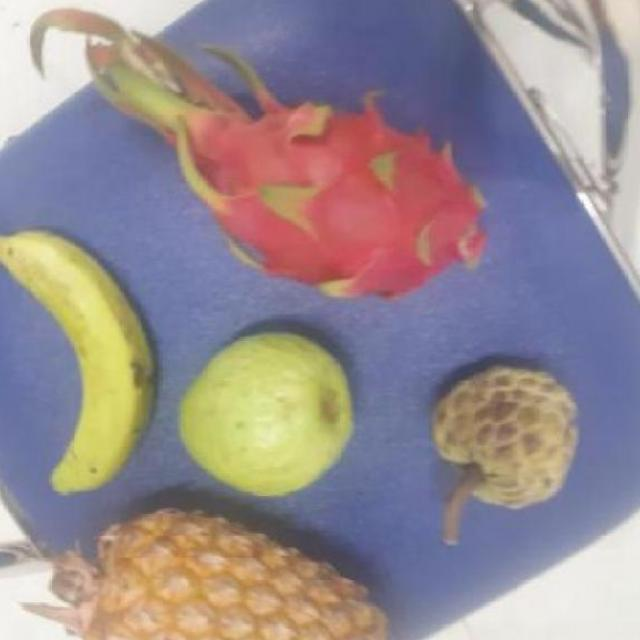banana: (1, 224, 160, 494)
dragon fruit: (182, 86, 502, 304)
guava: (180, 331, 366, 493)
pineapple: (82, 517, 402, 640)
sugar apple: (434, 364, 586, 512)
